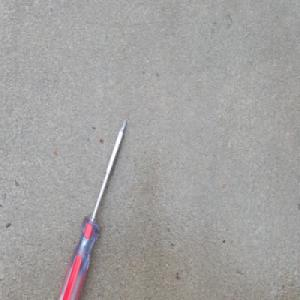Screwdriver: (56, 118, 128, 299)
